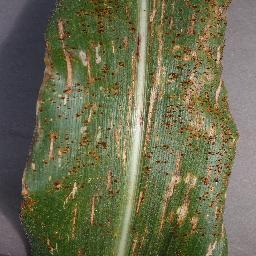Gray_Leaf_Spot: (8, 1, 243, 256), (16, 3, 245, 256)
